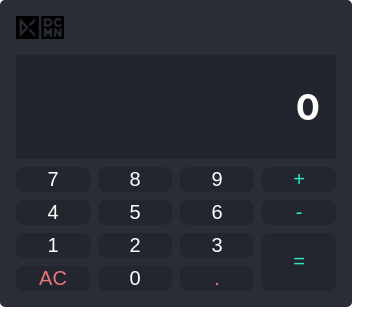
Test: should accurately perform operations › should display clicked numbers (whole & decimal)
What coordinates should you click on to do the following:
click the button "3"
I would click on:
 (217, 245)
Its box is [180,232,254,258].
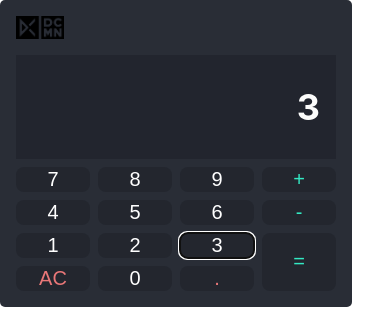
Check: the heading named "display" reads "3", box [297,85,320,129]
What coordinates should you click on to do the following:
click the button "4"
I would click on:
 (53, 212)
Its box is [16,200,90,224].
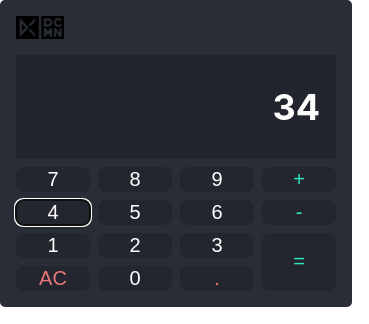
Check: the heading named "display" reads "34", box [272,85,320,129]
What coordinates should you click on to do the following:
click the button "."
I would click on:
 (217, 278)
Its box is [180,266,254,290].
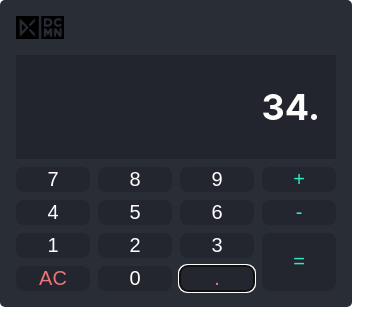
What coordinates should you click on to do the following:
click the button "4"
I would click on:
 (53, 212)
Its box is [16,200,90,224].
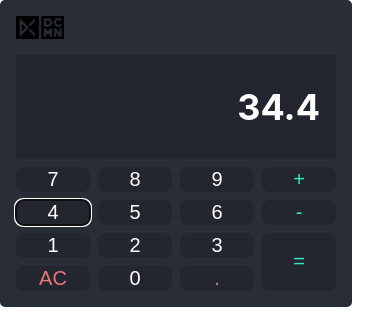
What coordinates should you click on to do the following:
click the button "3"
I would click on:
 (217, 245)
Its box is [180,232,254,258].
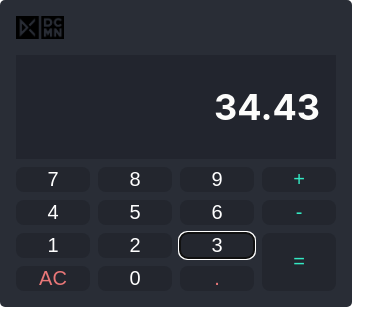
Check: the heading named "display" reads "34.43", box [214,85,320,129]
